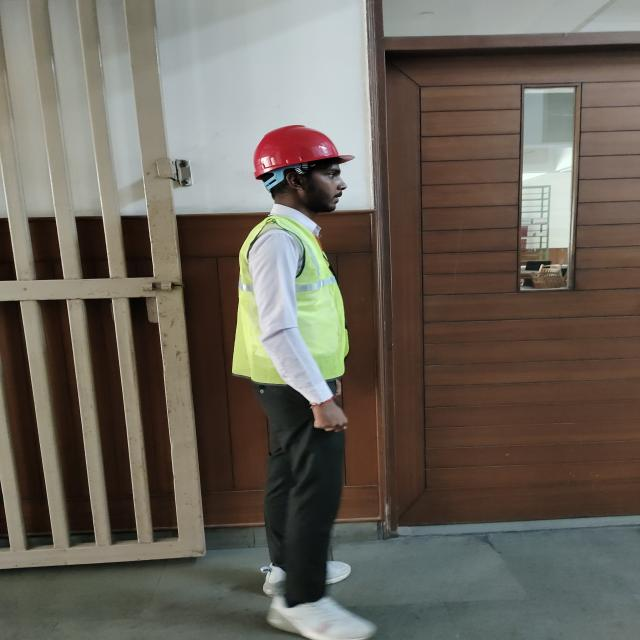safe: (233, 126, 363, 640)
